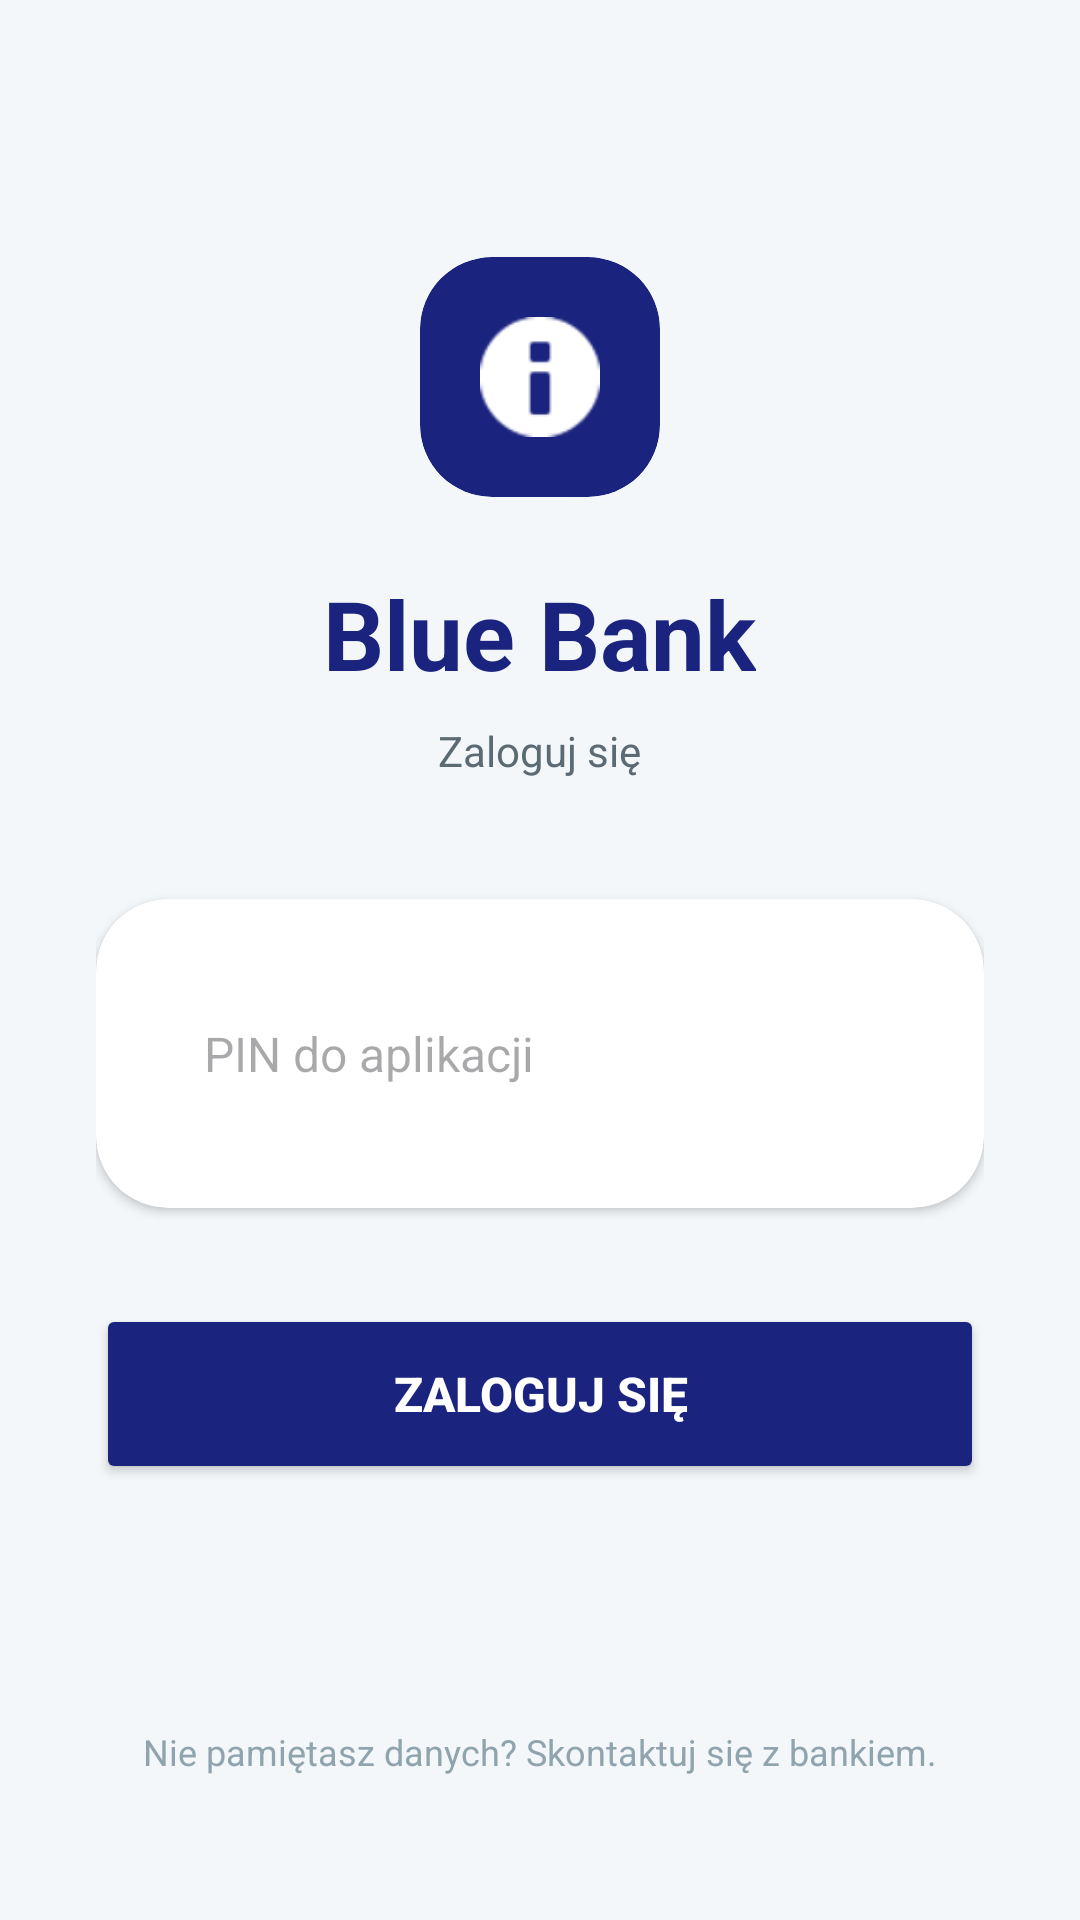

Where icons sit on this 1080px x 1920px app screen, as [x1, y1, x2, y2]:
info: [480, 317, 600, 437]
